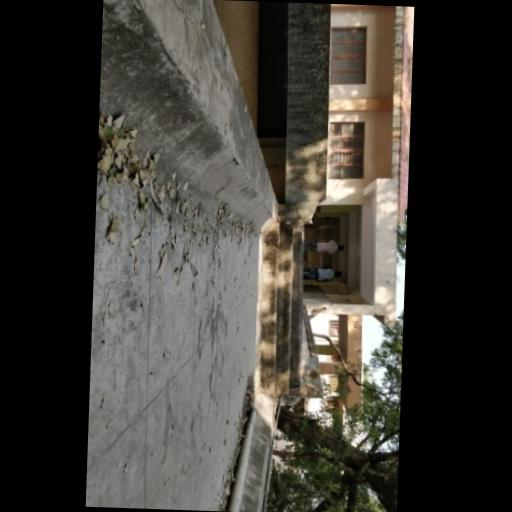stairs: (259, 221, 302, 395)
